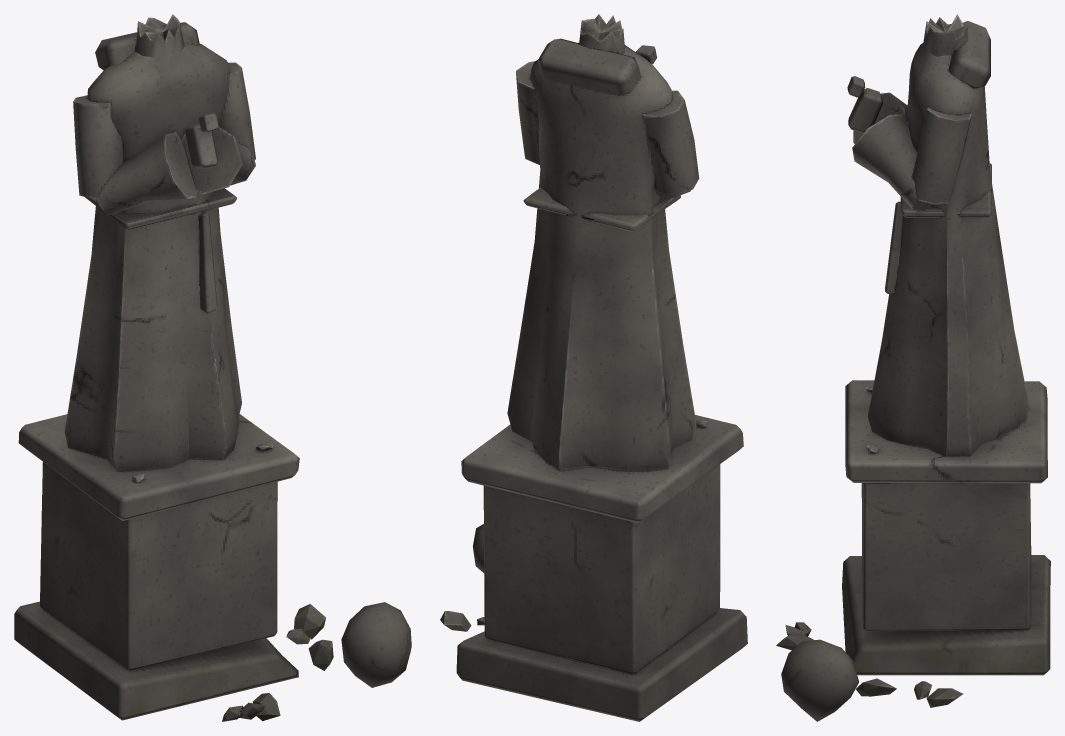
File: statue.glb
3 renders of one model, left to right at view 1: azimuth 30°, elevation 25°; view 2: azimuth 150°, elevation 25°; view 3: azimuth 270°, elevation 25°, orthographic. The views are drawn at different scales.
Visible parts, largest first — view 1: StatueBeheaded; view 2: StatueBeheaded; view 3: StatueBeheaded.
Part boxes in pixels (x1,y1,x2,y2): StatueBeheaded: [14, 14, 411, 721]; StatueBeheaded: [440, 14, 747, 721]; StatueBeheaded: [776, 14, 1050, 721].
Bounding box in the file's own units: 0.928 × 2.05 × 0.8198.
1 material, 1 textured.
